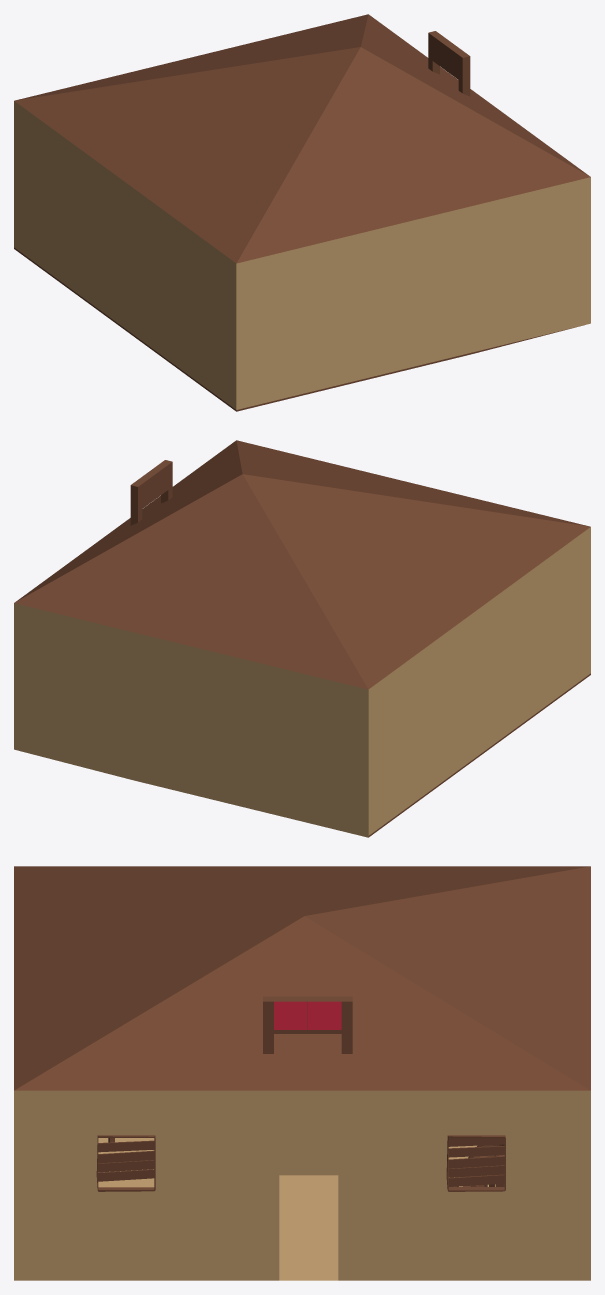
Rendered from Bar.fbx.
3 renders of one model, top to bottom at view 1: azimuth 30°, elevation 25°; view 2: azimuth 150°, elevation 25°; view 3: azimuth 270°, elevation 25°, orthographic. The views are drawn at different scales.
Parts seen in each view (by area): view 1: Bar; view 2: Bar; view 3: Bar.
Boxes of the visible parts, x1,y1,x2,y2 form: Bar: [14, 14, 590, 411]; Bar: [14, 440, 590, 837]; Bar: [14, 866, 590, 1280].
Bounding box in the file's own units: 9603 × 5772 × 10342.
